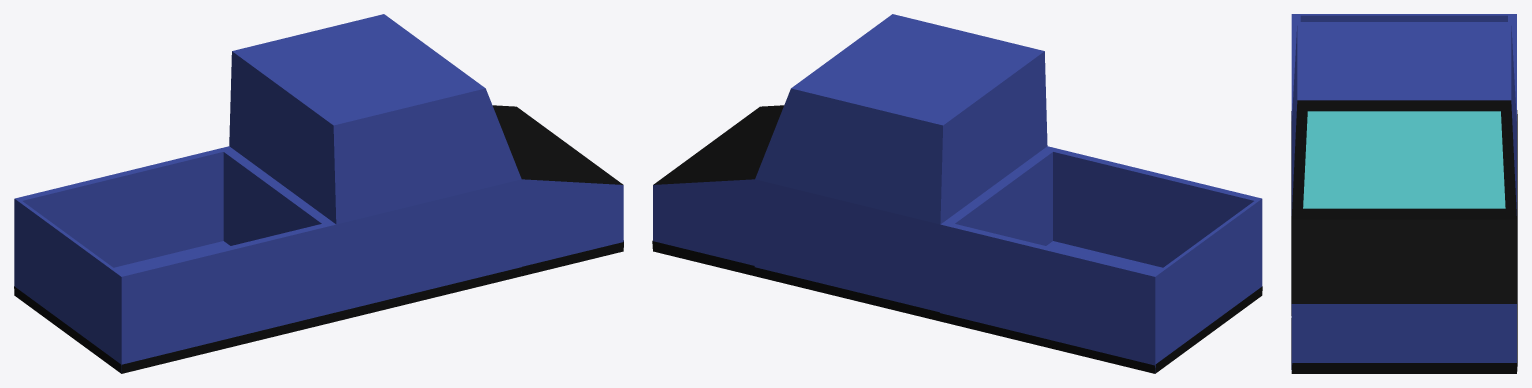
File: truck1.fbx
The picture shows the model from 3 angles, left to right: view 1: azimuth 30°, elevation 25°; view 2: azimuth 150°, elevation 25°; view 3: azimuth 270°, elevation 25°; orthographic projection. The views are drawn at different scales.
Visible parts, largest first — view 1: Cube.001; view 2: Cube.001; view 3: Cube.001.
Boxes of the visible parts, x1=… form: Cube.001: x1=14, y1=14, x2=623, y2=373; Cube.001: x1=652, y1=14, x2=1262, y2=373; Cube.001: x1=1291, y1=14, x2=1517, y2=373.
Bounding box in the file's own units: 434 × 160 × 161.
